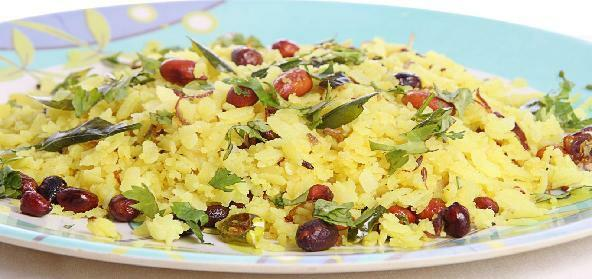Poha: (0, 26, 592, 259)
